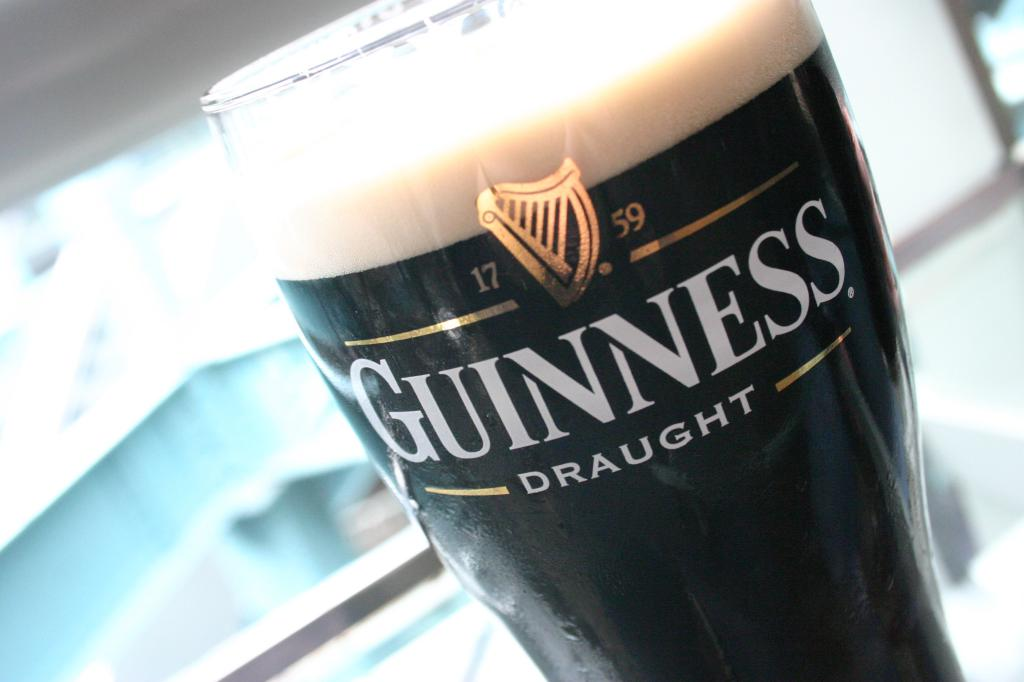Beer: (202, 0, 1001, 681)
